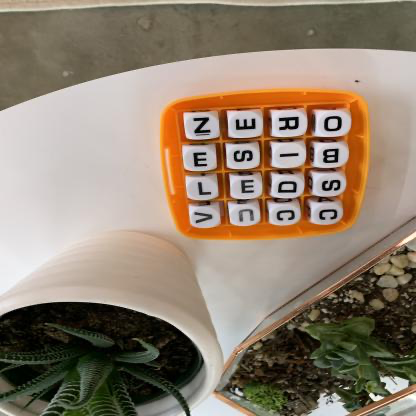b: (318, 144, 350, 169)
c: (313, 204, 344, 226), (271, 205, 303, 226)
d: (274, 175, 306, 199)
e: (228, 112, 263, 139), (183, 146, 218, 172), (231, 177, 264, 200)
i: (274, 144, 307, 169)
l: (187, 178, 220, 201)
o: (319, 112, 352, 138)
r: (274, 111, 308, 138)
s: (228, 146, 261, 171), (315, 174, 347, 198)
u: (231, 206, 262, 227)
v: (190, 207, 221, 229)
z: (185, 113, 221, 140)
